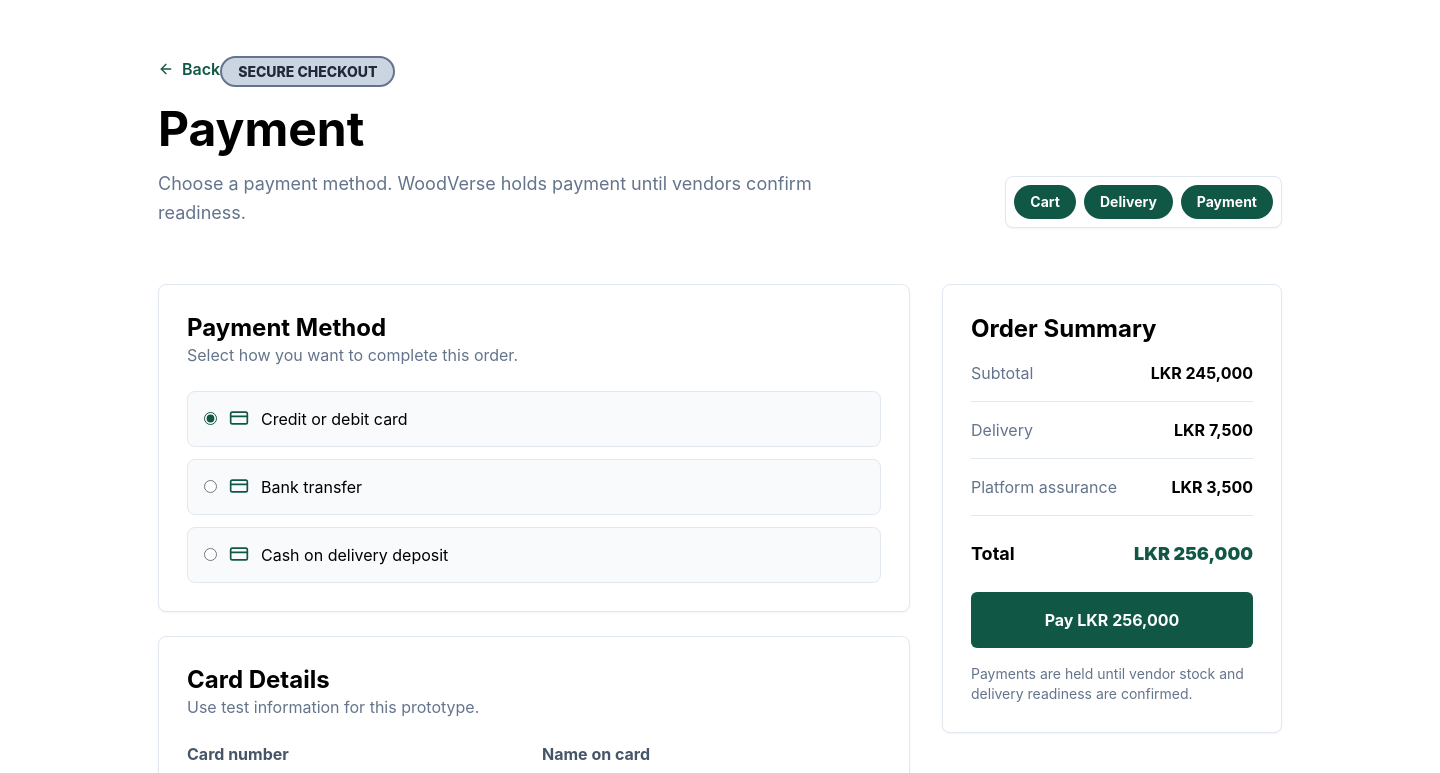
Scenario: PaymentPage checkout › shows the order id the server returned
This screenshot has width=1440, height=773.
Click the button "Pay LKR 256,000" at {"x": 1112, "y": 620}, box [971, 592, 1253, 648]
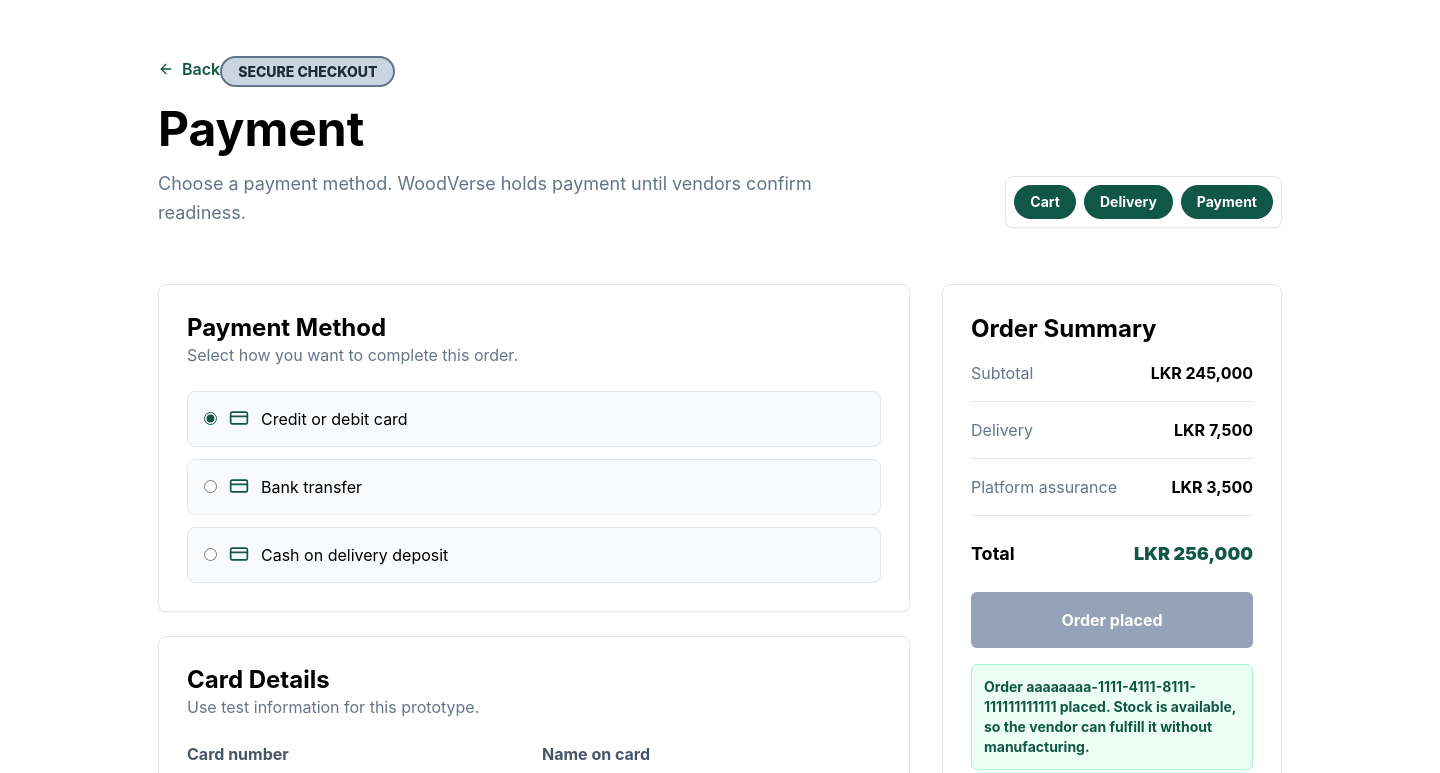
Expected: the text "aaaaaaaa-1111-4111-8111-111111111111 placed" is shown, [984, 678, 1236, 754]
